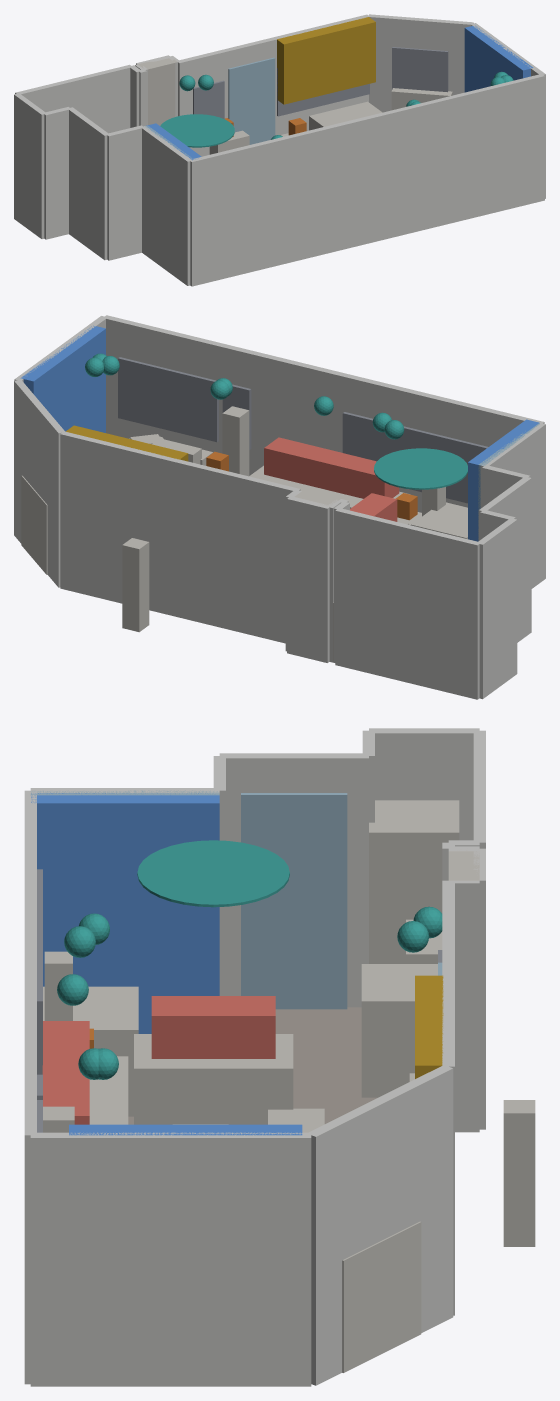
The model's file is ney_room.glb.
The picture shows the model from 3 angles, top to bottom: view 1: azimuth 30°, elevation 25°; view 2: azimuth 150°, elevation 25°; view 3: azimuth 270°, elevation 25°; orthographic projection. The views are drawn at different scales.
Visible parts, largest first — view 1: Wall 10, UNSAFE Screen, Wall 11, Wall 13, Wall 8, Wall 12, Wall 7, Wall 1, Wall 15, Bedroom door, Wall 14, UNSAFE Glass door (curtained: safe) (+12 smaller); view 2: Wall 7, Wall 1, Wall 10, Wall 5, Wall 15, Wall 8, UNSAFE Glass door (curtained: safe), UNSAFE Eye level 2, Wall 11, Art wall, Ceiling fan, Wall 13 (+21 smaller); view 3: Wall 9, UNSAFE Mirror, Wall 8, Front door, Wall 13, Blue couch, Fridge, Fireplace, Ceiling fan, UNSAFE Eye level, Wall 15, Floor (+22 smaller).
Part boxes in pixels (left/top/right/bottom): Wall 10: left=190, top=74, right=544, bottom=286; UNSAFE Screen: left=277, top=17, right=375, bottom=104; Wall 11: left=140, top=126, right=191, bottom=285; Wall 13: left=68, top=107, right=109, bottom=260; Wall 8: left=368, top=14, right=473, bottom=112; Wall 12: left=106, top=125, right=143, bottom=260; Wall 7: left=177, top=14, right=368, bottom=156; Wall 1: left=15, top=64, right=130, bottom=133; Wall 15: left=14, top=93, right=46, bottom=238; Bedroom door: left=228, top=57, right=275, bottom=144; Wall 14: left=43, top=107, right=69, bottom=239; UNSAFE Glass door (curtained: safe): left=464, top=25, right=533, bottom=92; Wall 7: left=60, top=432, right=300, bottom=643; Wall 1: left=335, top=508, right=480, bottom=699; Wall 10: left=104, top=315, right=544, bottom=512; Wall 5: left=287, top=496, right=329, bottom=662; Wall 15: left=476, top=518, right=517, bottom=699; Wall 8: left=14, top=379, right=65, bottom=587; UNSAFE Glass door (curtained: safe): left=20, top=325, right=105, bottom=432; UNSAFE Eye level 2: left=264, top=437, right=399, bottom=498; Wall 11: left=480, top=423, right=545, bottom=588; Art wall: left=160, top=367, right=218, bottom=442; Ceiling fan: left=374, top=448, right=467, bottom=489; Wall 13: left=478, top=476, right=531, bottom=642; Wall 9: left=30, top=1132, right=311, bottom=1386; UNSAFE Mirror: left=31, top=793, right=219, bottom=1033; Wall 8: left=307, top=1065, right=453, bottom=1385; Front door: left=241, top=793, right=347, bottom=1009; Wall 13: left=219, top=753, right=368, bottom=1007; Blue couch: left=134, top=1034, right=293, bottom=1124; Fridge: left=369, top=800, right=459, bottom=963; Fireplace: left=342, top=1221, right=421, bottom=1372; Ceiling fan: left=137, top=840, right=289, bottom=907; UNSAFE Eye level: left=151, top=996, right=275, bottom=1058; Wall 15: left=369, top=728, right=479, bottom=840; Floor: left=128, top=1007, right=377, bottom=1124.
Bounding box in the file's own units: 8.34 × 2.36 × 4.39.
